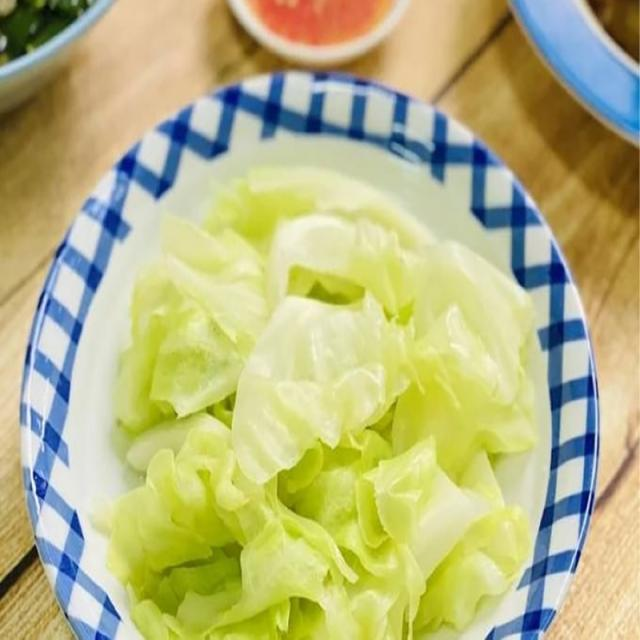bap cai luoc: (105, 169, 536, 639)
